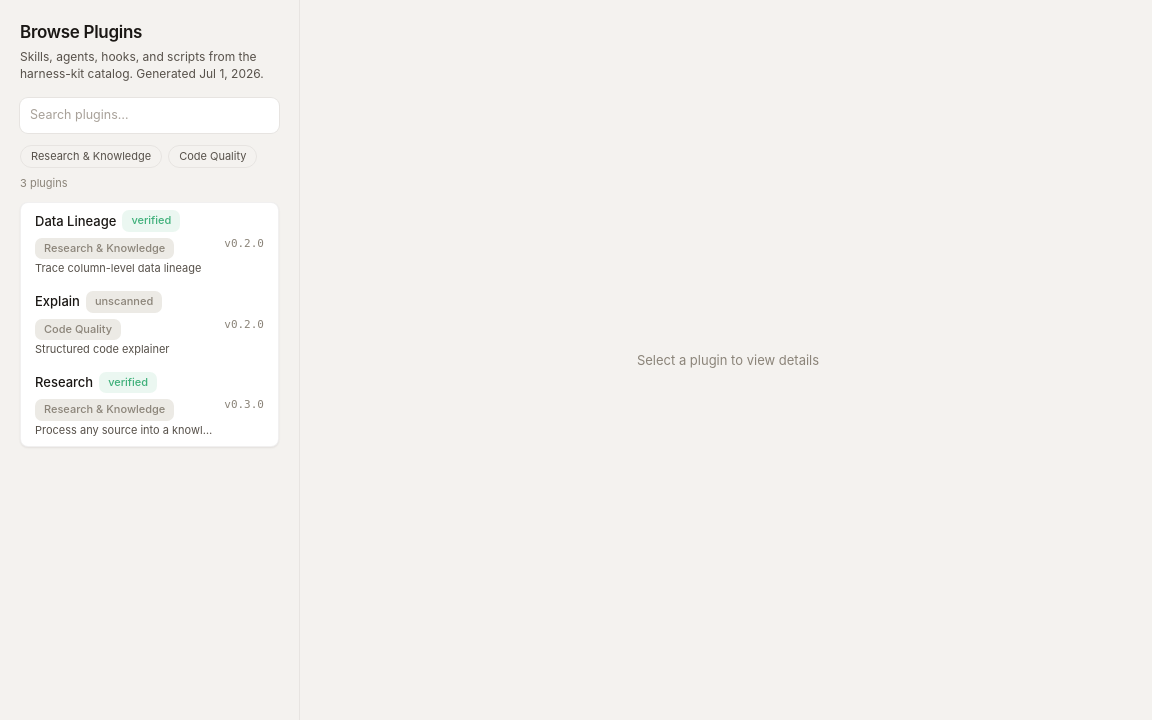
it: MarketplacePage — detail panel › plugin selection › returns to empty state when close button is clicked
The width and height of the screenshot is (1152, 720).
Click the button "Research" at point(150, 405), box [21,365,278,446]
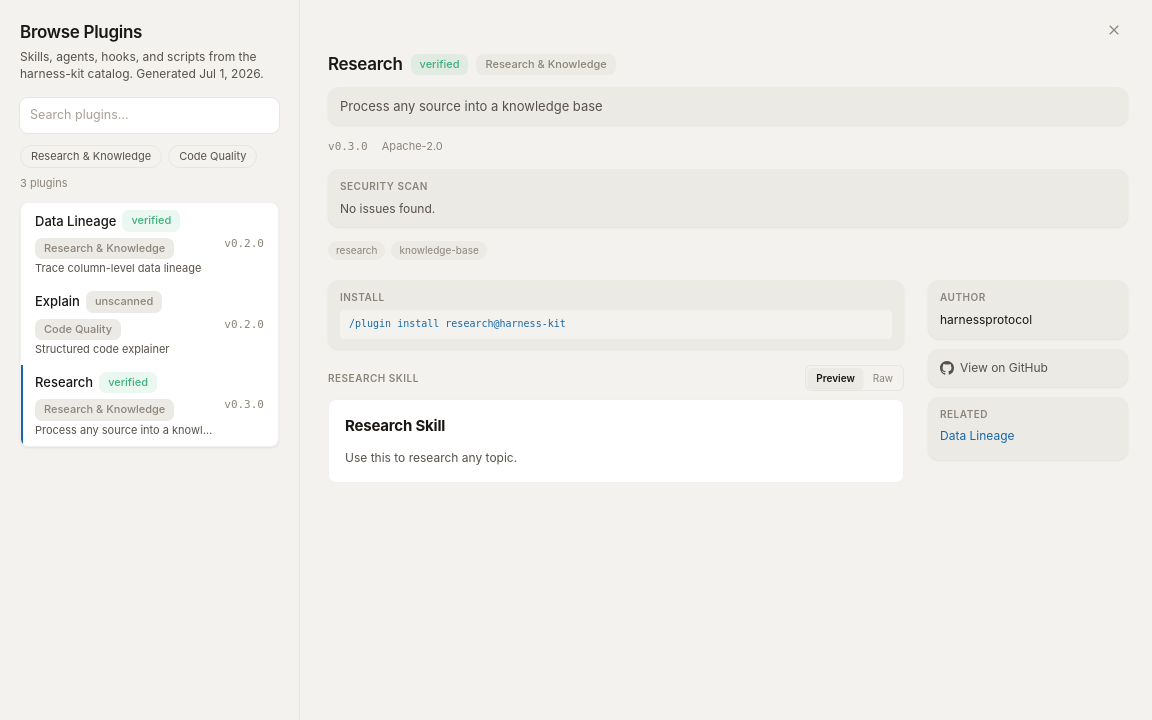
Click the button named "Close detail panel" at point(1114, 30), box [1100,20,1128,40]
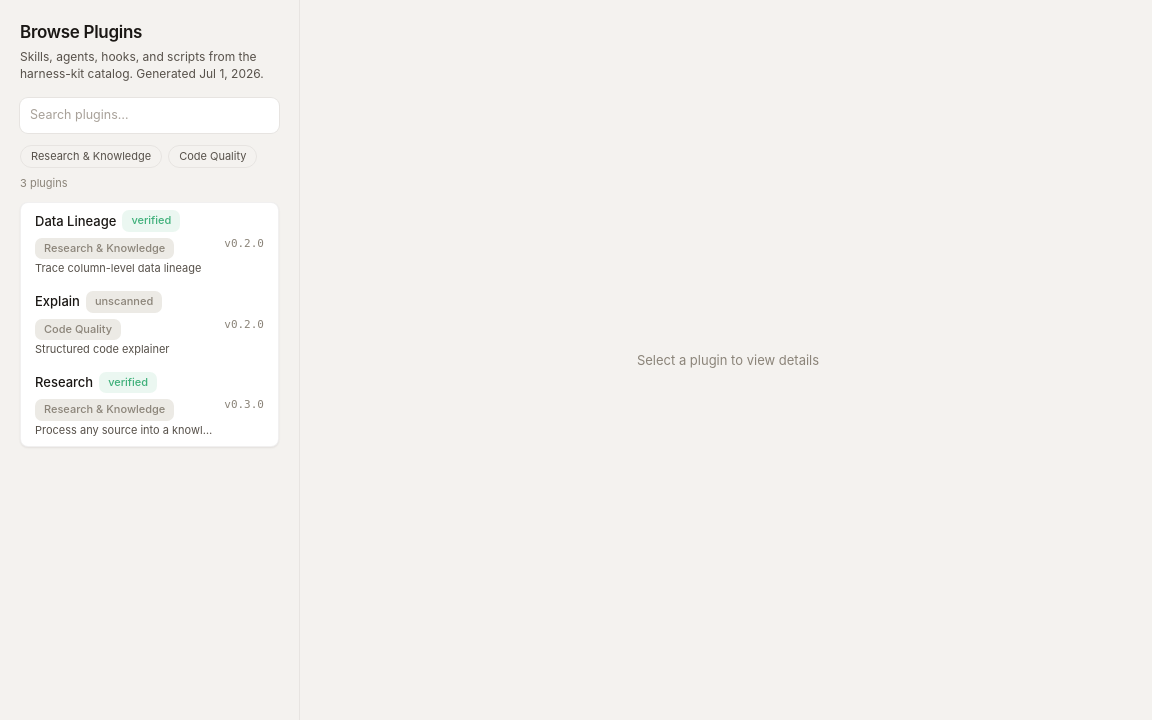
Expected: the text "Select a plugin to view details" is shown, [637,351,819,369]
